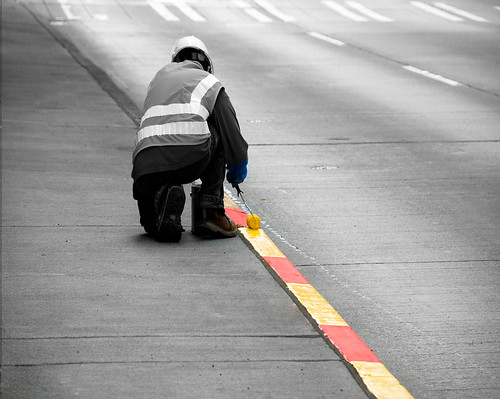person hardhat: (131, 35, 257, 246)
